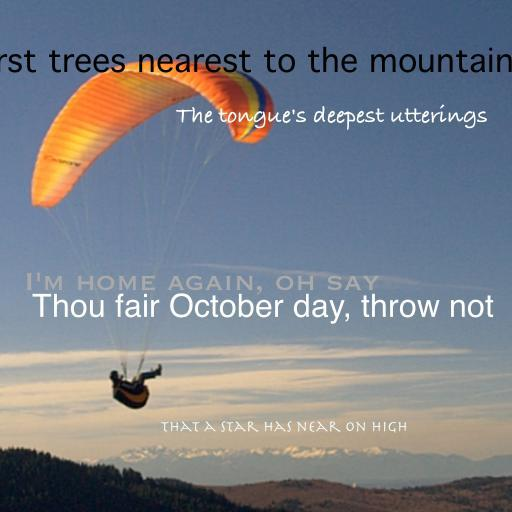Bradley Hand: (176, 104, 488, 130)
Copperplate: (24, 272, 380, 295)
Geneva: (0, 46, 512, 78)
Helvetica: (32, 293, 494, 324)
Herculanum: (160, 421, 408, 433)
